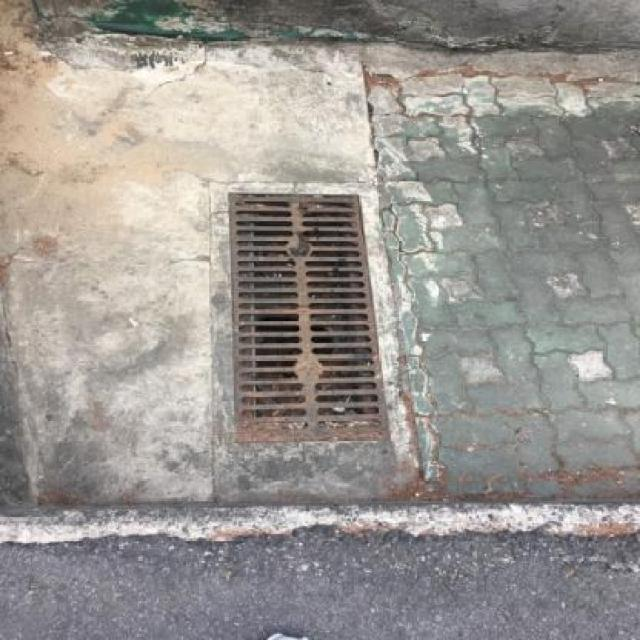Drain Hole: (191, 178, 369, 454)
